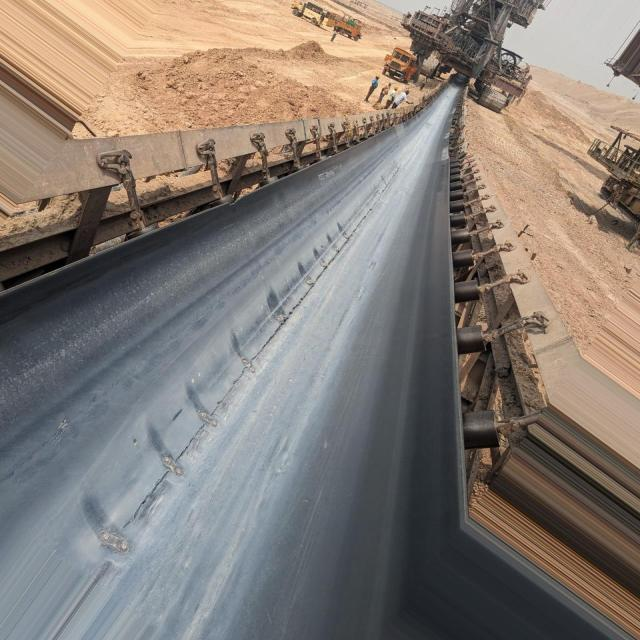Human: (365, 77, 399, 107), (389, 91, 412, 108)
Roller: (451, 165, 498, 468)
patch work: (82, 201, 371, 572)
